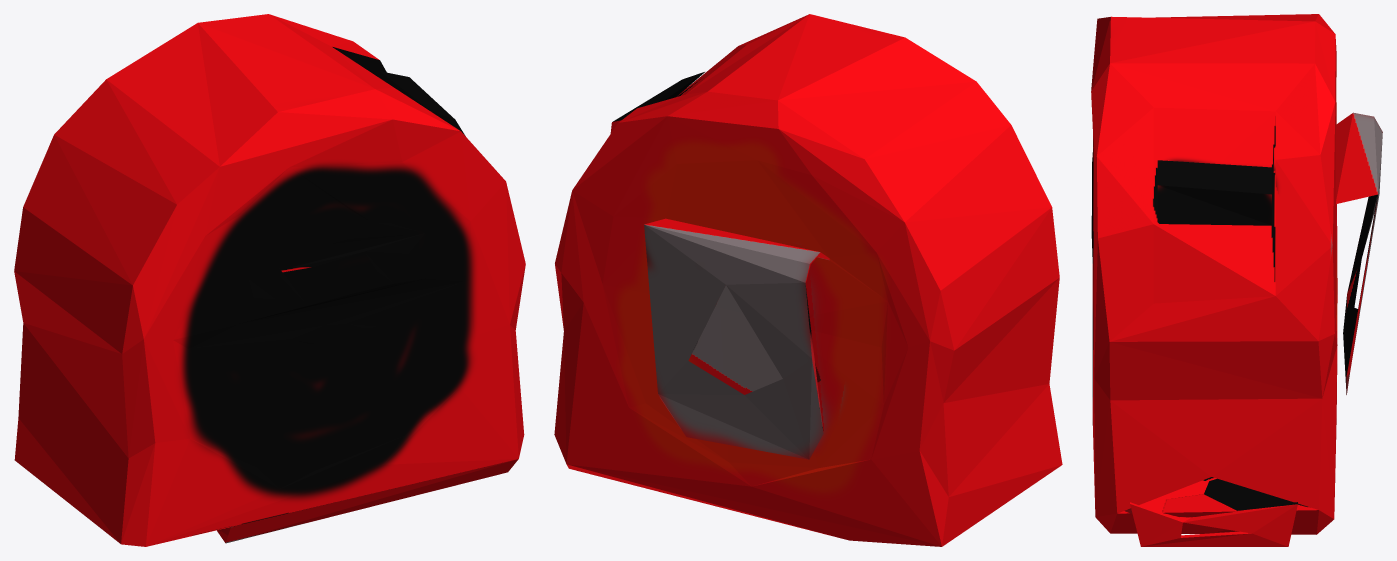
File: tape_measure.dae
3 renders of one model, left to right at view 1: azimuth 30°, elevation 25°; view 2: azimuth 150°, elevation 25°; view 3: azimuth 270°, elevation 25°, orthographic. The views are drawn at different scales.
Parts seen in each view (by area): view 1: Extreme redesign tape measure; view 2: Extreme redesign tape measure; view 3: Extreme redesign tape measure.
Boxes of the visible parts, <box> form: Extreme redesign tape measure: <box>14,14,525,546</box>; Extreme redesign tape measure: <box>554,14,1062,546</box>; Extreme redesign tape measure: <box>1091,14,1382,546</box>.
Size of the model in its own units: 0.00388 by 0.00243 by 0.00383.
Materials: 1 (1 with a texture image).
